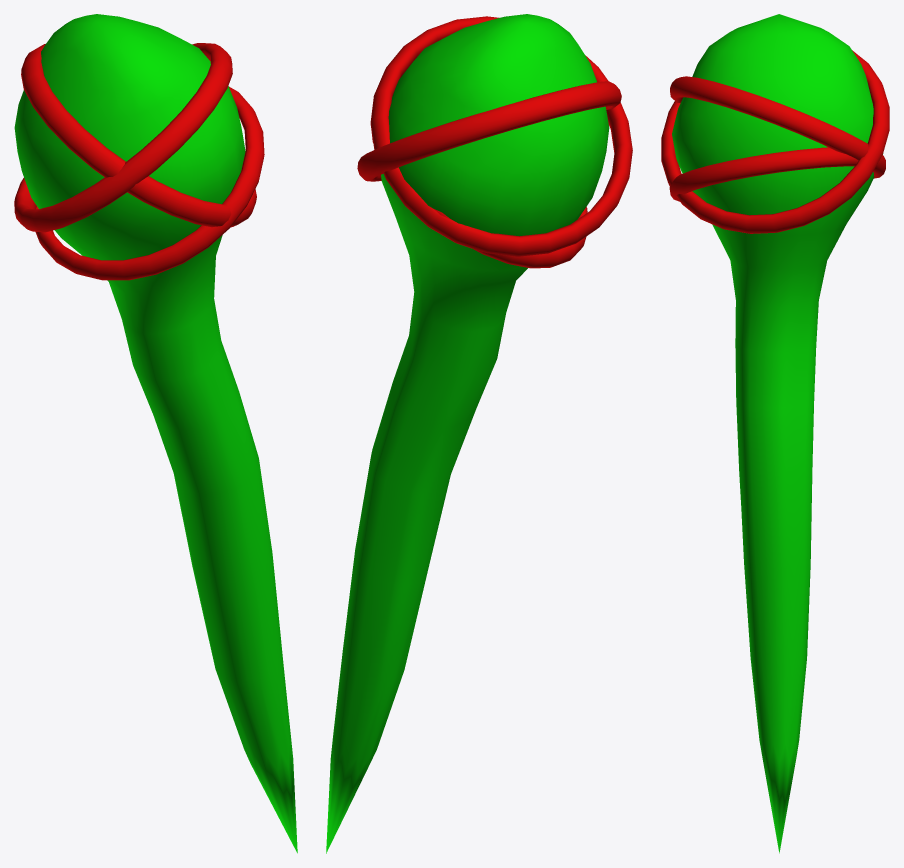
File: GoblinTorch.fbx
3 views of the same model, side by side, from view 1: azimuth 30°, elevation 25°; view 2: azimuth 150°, elevation 25°; view 3: azimuth 270°, elevation 25° (orthographic). The views are drawn at different scales.
Parts seen in each view (by area): view 1: Goblin_Torch_lp2; view 2: Goblin_Torch_lp2; view 3: Goblin_Torch_lp2.
Part boxes in pixels (x1,y1,x2,y2): Goblin_Torch_lp2: [14, 14, 297, 853]; Goblin_Torch_lp2: [326, 14, 632, 853]; Goblin_Torch_lp2: [661, 14, 889, 853].
Size of the model in its own units: 0.234 by 0.7081 by 0.1938.
